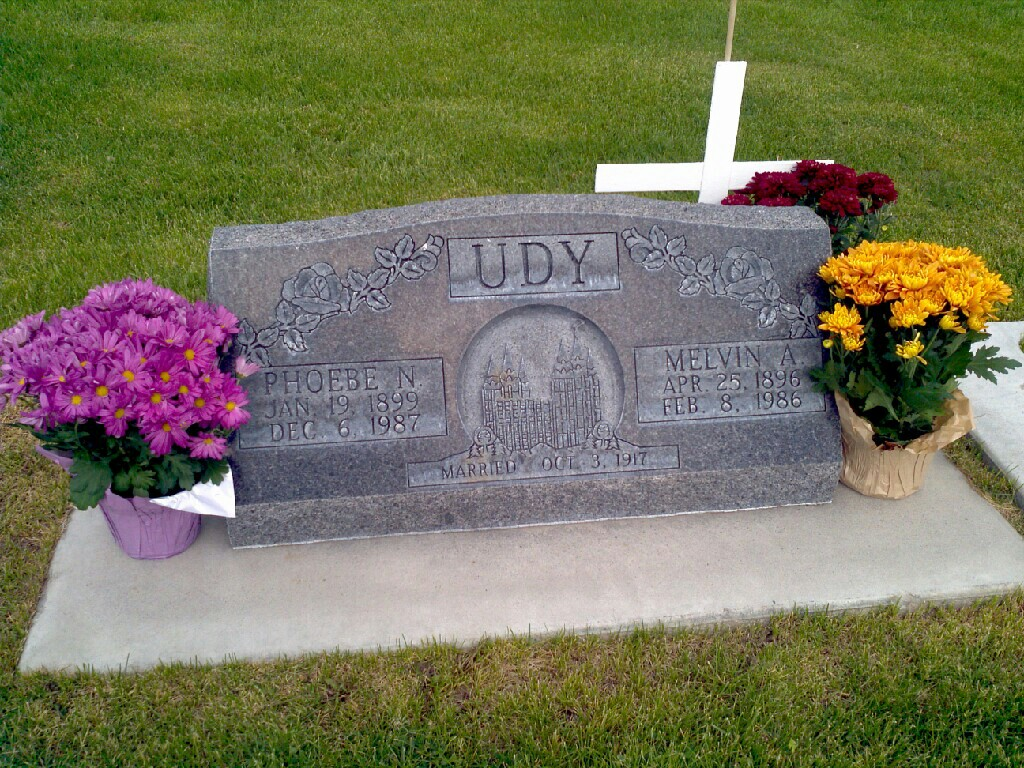upright: (207, 192, 848, 545)
